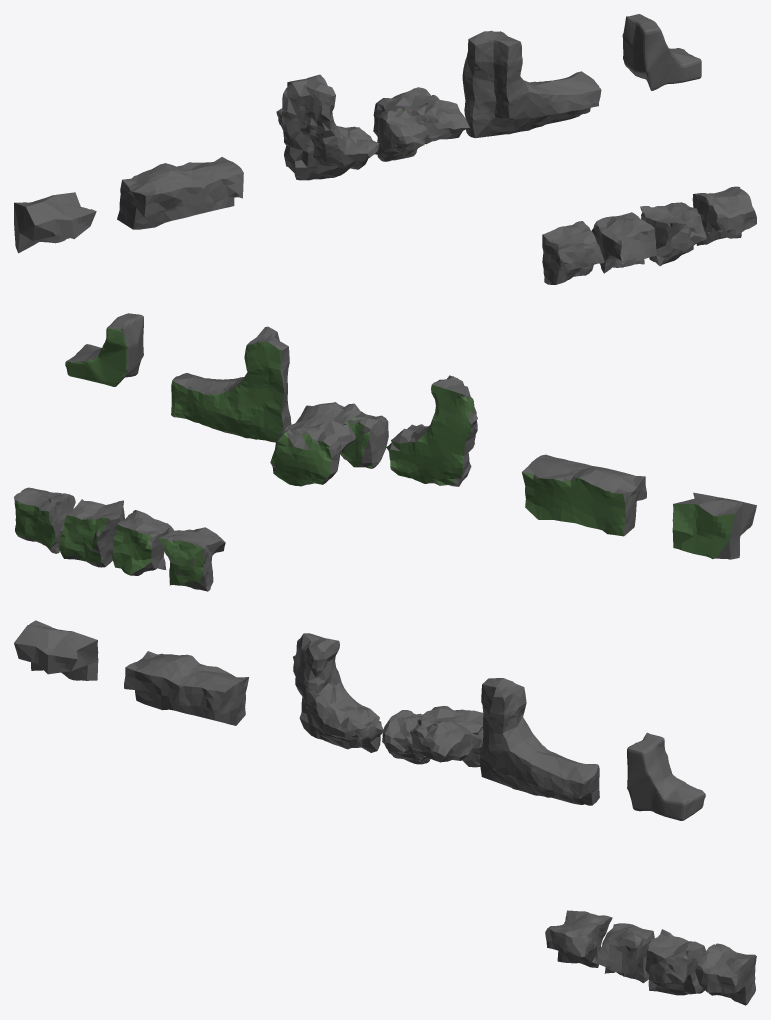
Rendered from Cliffs.fbx.
3 renders of one model, top to bottom at view 1: azimuth 30°, elevation 25°; view 2: azimuth 150°, elevation 25°; view 3: azimuth 330°, elevation 25°, orthographic.
Parts seen in each view (by area): view 1: Cliff Corner 3, Cliff Corner 1, Cliff 7, Cliff Corner 2, Cliff 3, Cliff 4, Cliff 5, Tall Cliff 1, Cliff 6, Cliff 2, Cliff 1; view 2: Cliff Corner 3, Cliff 7, Cliff Corner 1, Tall Cliff 1, Cliff 3, Cliff Corner 2, Cliff 6, Cliff 4, Cliff 5, Cliff 2, Cliff 1; view 3: Cliff Corner 3, Cliff Corner 1, Cliff 7, Cliff Corner 2, Cliff 3, Tall Cliff 1, Cliff 6, Cliff 2, Cliff 4, Cliff 5, Cliff 1.
Part boxes in pixels (x1,y1,x2,y2): Cliff Corner 3: [462, 30, 601, 138]; Cliff Corner 1: [276, 74, 379, 180]; Cliff 7: [117, 157, 243, 229]; Cliff Corner 2: [622, 14, 701, 90]; Cliff 3: [14, 192, 96, 253]; Cliff 4: [542, 221, 604, 284]; Cliff 5: [591, 212, 656, 273]; Tall Cliff 1: [373, 87, 469, 144]; Cliff 6: [640, 202, 706, 266]; Cliff 2: [692, 186, 756, 245]; Cliff 1: [377, 108, 428, 161]; Cliff Corner 3: [171, 326, 291, 442]; Cliff 7: [522, 454, 646, 536]; Cliff Corner 1: [386, 375, 477, 486]; Tall Cliff 1: [270, 402, 360, 486]; Cliff 3: [672, 492, 756, 559]; Cliff Corner 2: [65, 313, 143, 386]; Cliff 6: [59, 499, 124, 567]; Cliff 4: [158, 527, 225, 591]; Cliff 5: [112, 510, 174, 575]; Cliff 2: [14, 487, 75, 553]; Cliff 1: [340, 411, 388, 468]; Cliff Corner 3: [479, 678, 599, 805]; Cliff Corner 1: [293, 633, 383, 752]; Cliff 7: [124, 651, 248, 725]; Cliff Corner 2: [627, 732, 705, 820]; Cliff 3: [14, 620, 98, 680]; Tall Cliff 1: [409, 706, 483, 767]; Cliff 6: [645, 929, 705, 995]; Cliff 2: [695, 943, 756, 1005]; Cliff 4: [545, 910, 612, 967]; Cliff 5: [592, 923, 654, 983]; Cliff 1: [382, 710, 430, 764].
Size of the model in its own units: 7224 by 2555 by 892.
